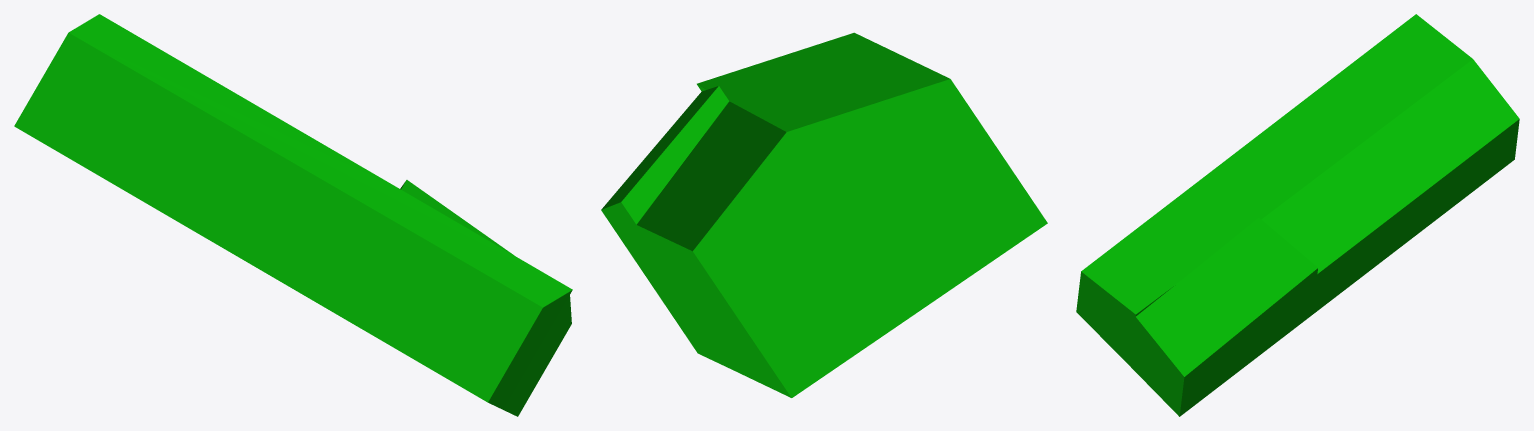
The picture shows the model from 3 angles, left to right: view 1: azimuth 30°, elevation 25°; view 2: azimuth 150°, elevation 25°; view 3: azimuth 270°, elevation 25°; orthographic projection. The views are drawn at different scales.
Visible parts, largest first — view 1: mesh; view 2: mesh; view 3: mesh.
Part boxes in pixels (bbox=[...]): mesh: bbox=[14, 14, 572, 416]; mesh: bbox=[601, 32, 1047, 397]; mesh: bbox=[1076, 14, 1519, 416].
Size of the model in its own units: 19.84 by 15.95 by 22.61.
